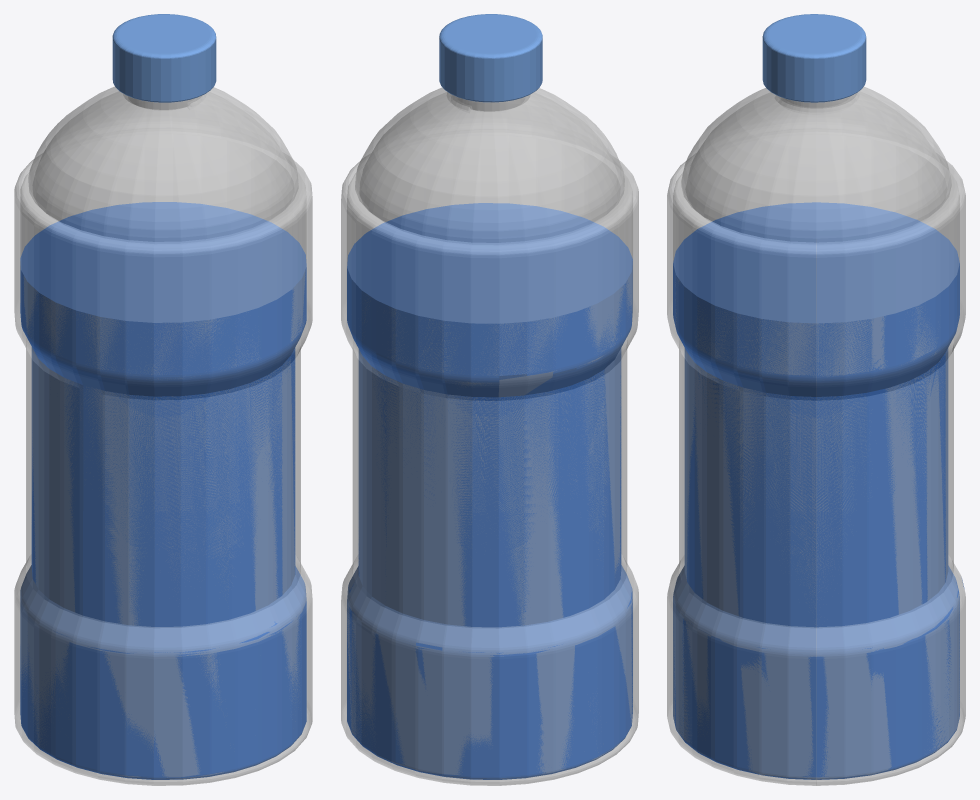
Rendered from WaterBottle.fbx.
The picture shows the model from 3 angles, left to right: view 1: azimuth 30°, elevation 25°; view 2: azimuth 150°, elevation 25°; view 3: azimuth 270°, elevation 25°; orthographic projection.
Visible parts, largest first — view 1: Cylinder, Cube, Cylinder.001; view 2: Cylinder, Cube, Cylinder.001; view 3: Cylinder, Cube, Cylinder.001.
Boxes of the visible parts, x1=… form: Cylinder: x1=14, y1=86, x2=312, y2=785; Cube: x1=20, y1=202, x2=306, y2=779; Cylinder.001: x1=112, y1=14, x2=216, y2=102; Cylinder: x1=341, y1=87, x2=638, y2=785; Cube: x1=347, y1=203, x2=632, y2=779; Cylinder.001: x1=439, y1=14, x2=542, y2=102; Cylinder: x1=667, y1=86, x2=965, y2=785; Cube: x1=673, y1=202, x2=964, y2=779; Cylinder.001: x1=762, y1=14, x2=866, y2=102.
Size of the model in its own units: 8.28 by 21.16 by 8.28.
